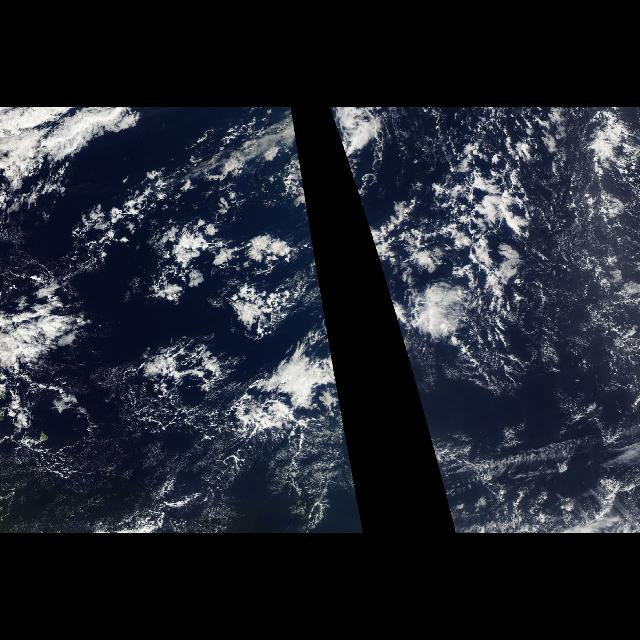Flower: (4, 111, 346, 438), (330, 111, 632, 438)
